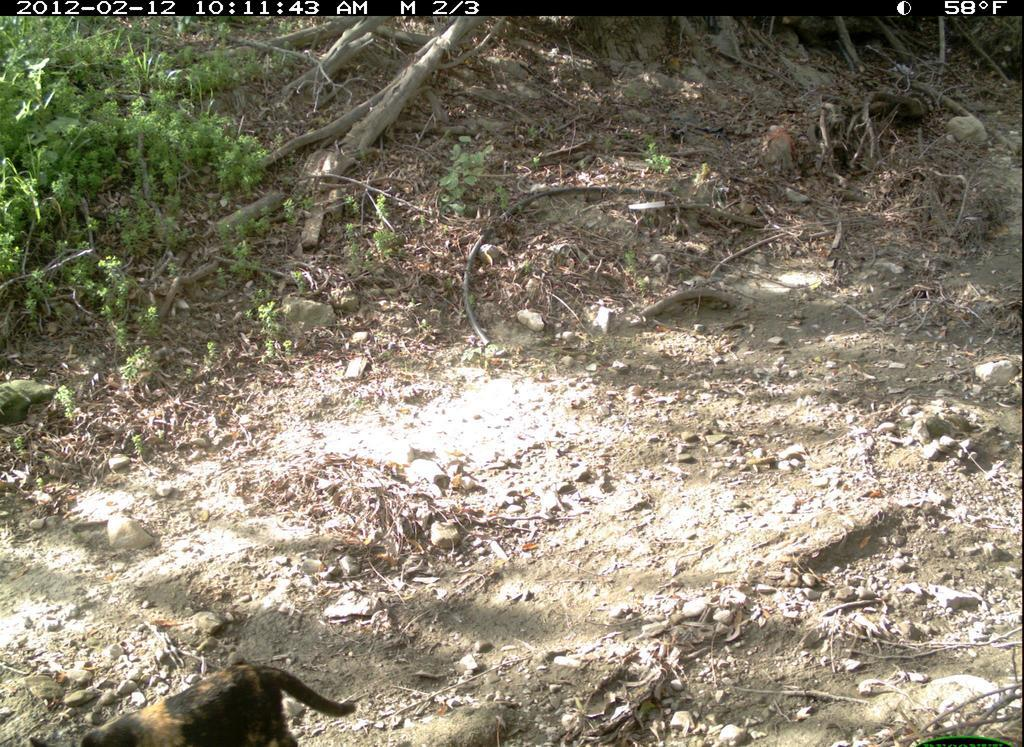cat: (22, 660, 358, 747)
